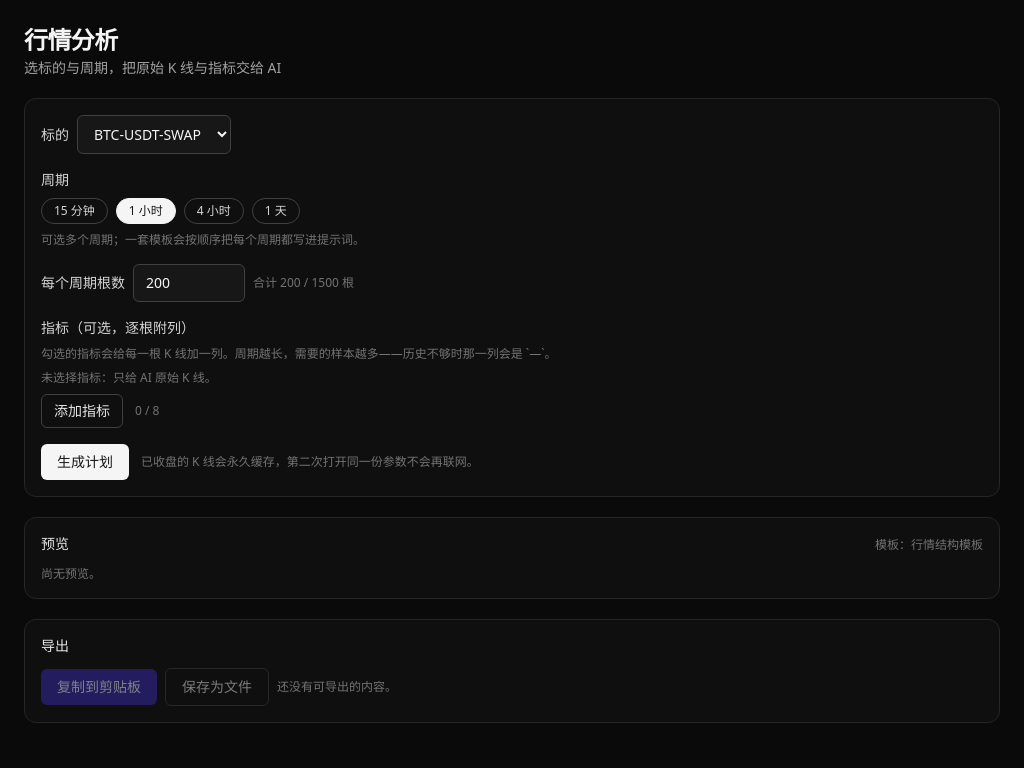
Test: KlinePage 计划与取数 › 生成计划：参数原样提交，并展示预估、逐周期根数与提醒
Step 1. Click the button "生成计划" → {"x": 85, "y": 462}, box [41,444,129,480]
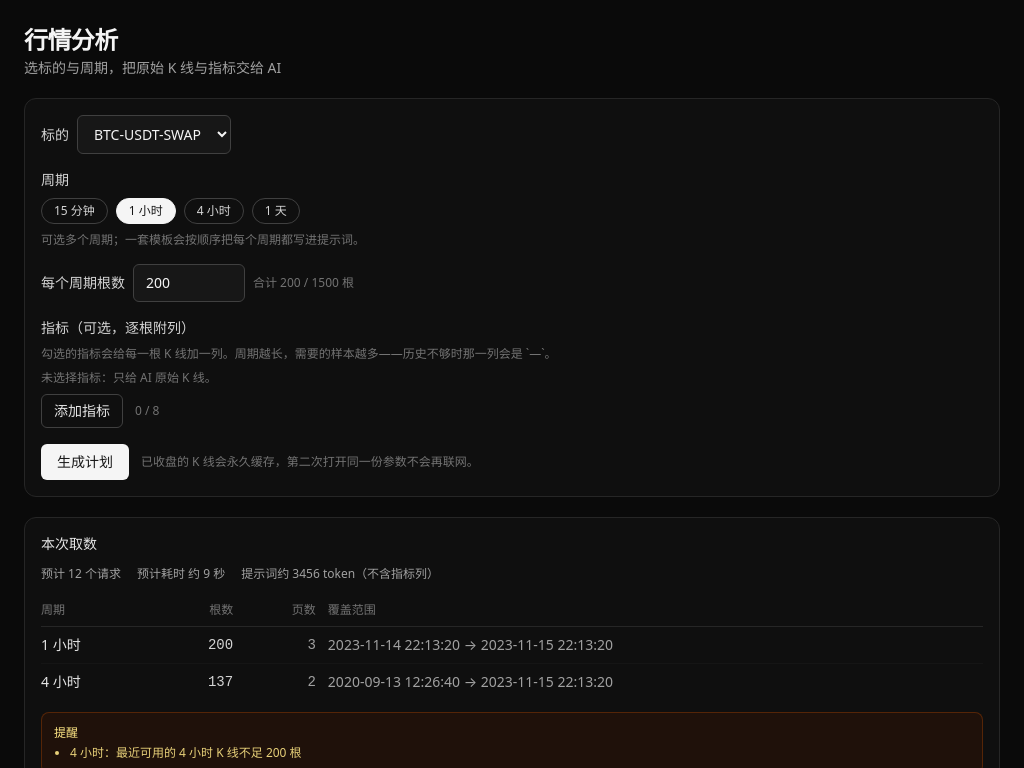
Check: the row "1 小时 200 3 2023-11-14 22:13:20 → 2023-11-15 22:13:20" is shown, box [41,626,983,664]
Check: the row "4 小时 137 2 2020-09-13 12:26:40 → 2023-11-15 22:13:20" is shown, box [41,664,983,700]
Check: the text "最近可用的 4 小时 K 线不足 200 根" is shown, box [70,744,302,761]
